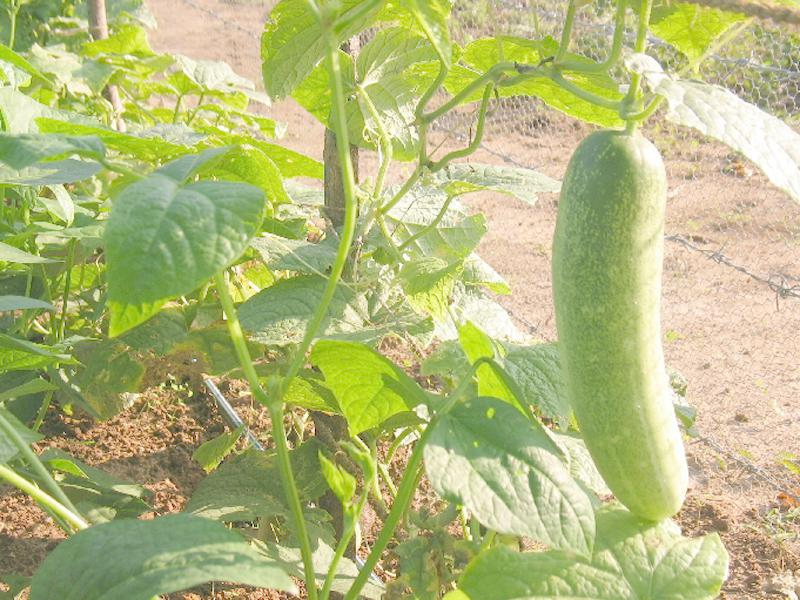Cucumber: (552, 132, 687, 519)
